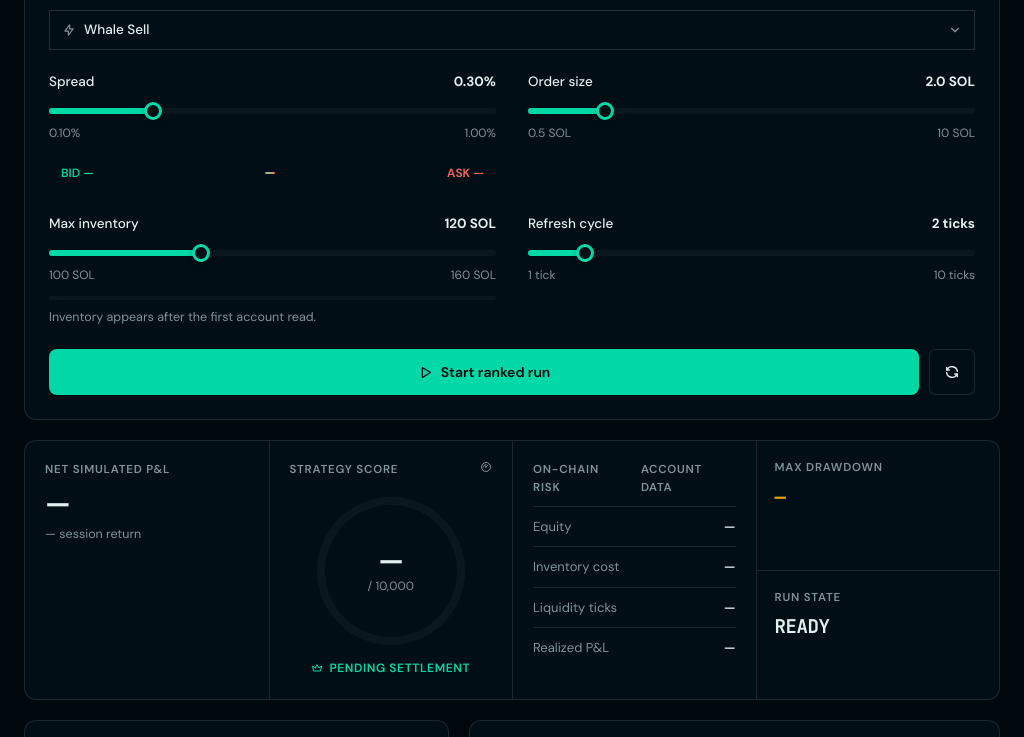
Test: ranked Strategy Lab › keeps the chart empty and the score pending when a tick has no account snapshot
The image size is (1024, 737).
(page scrolled)
Click the button "Start ranked run" at (484, 372), box [49,349,919,395]
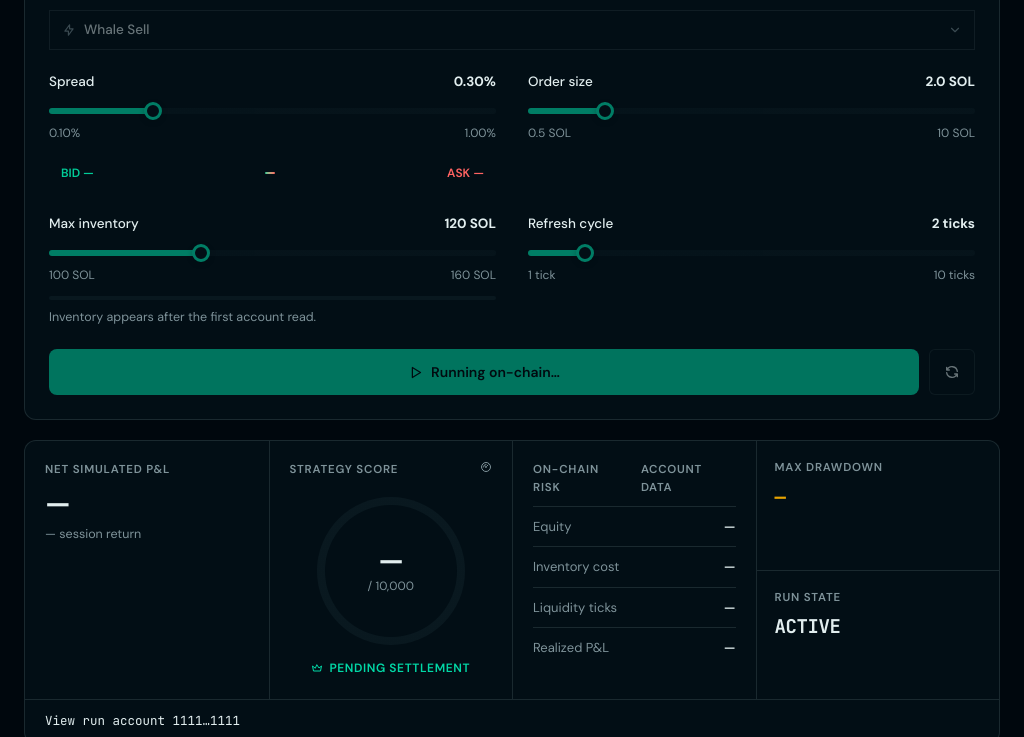
Expected: the text "PENDING SETTLEMENT" is shown, [311,659,470,677]
Now the slider labelled "Spread" is disabled, box [49,108,496,114]
Now the button with aria-label "Scenario" is disabled, box [49,10,975,50]
